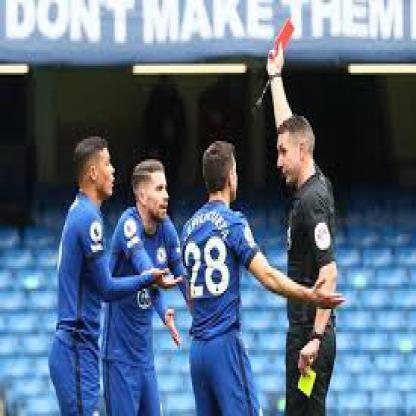foul: (233, 1, 333, 169)
